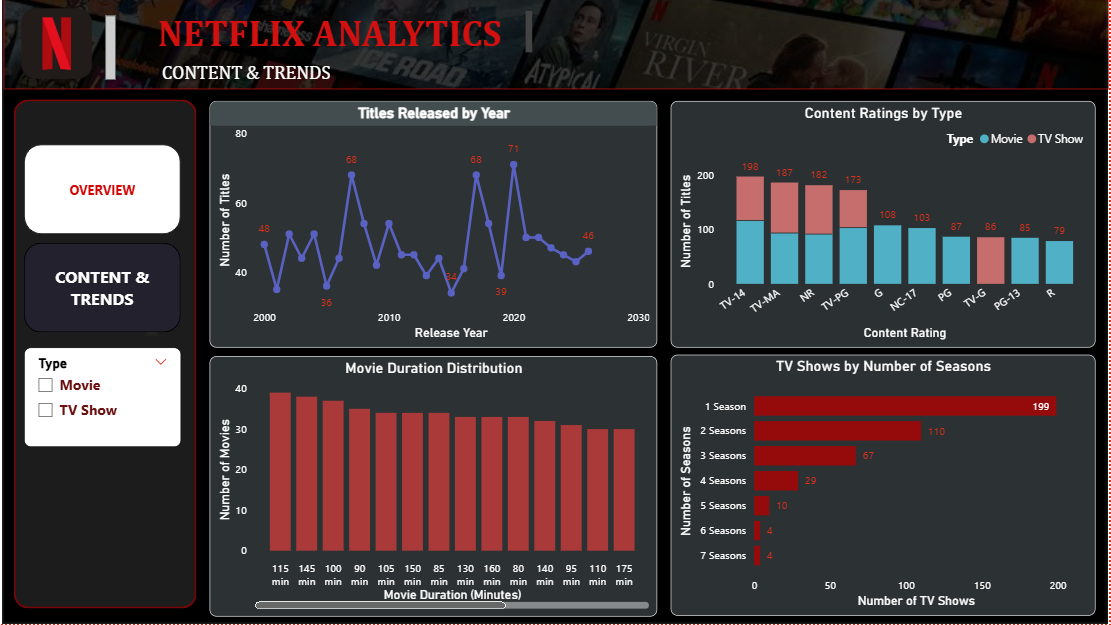

Layout of this report page (visuals, bound fields, positions):
{"tool":"powerbi","page":{"name":"CONTENT & TRENDS","canvas":[1280,720],"ordinal":1},"visuals":[{"type":"shape","box":[9,0,1271,719.4],"z":0},{"type":"image","box":[175,105,12,558.3],"z":1000},{"type":"image","box":[9.3,0,1270.3,105],"z":2000},{"type":"textbox","box":[152.8,9.3,469.2,58.7],"z":3000},{"type":"shape","box":[21.6,117.3,209.9,585],"z":4000},{"type":"pageNavigator","box":[34,168.2,180.6,216.1],"z":5000},{"type":"slicer","fields":{"Values":["NetflixTitles.type"]},"box":[34,401.3,180.6,114.2],"z":6000},{"type":"shape","box":[126.6,20.1,12.3,74.1],"z":7000},{"type":"image","box":[21.6,9.3,98.8,84.9],"z":8000},{"type":"textbox","box":[186.8,67.9,355,37],"z":9000},{"type":"lineChart","title":"Titles Released by Year","fields":{"Category":["NetflixTitles.release_year"],"Y":["CountNonNull(NetflixTitles.show_id)"]},"box":[246.2,117.9,514.8,283.5],"z":10000},{"type":"clusteredColumnChart","title":"Movie Duration Distribution","fields":{"Category":["NetflixTitles.duration"],"Y":["Count(NetflixTitles.show_id)"]},"box":[246.2,411.6,514.2,299.5],"z":11000},{"type":"clusteredBarChart","title":"TV Shows by Number of Seasons","fields":{"Category":["NetflixTitles.duration"],"Y":["CountNonNull(NetflixTitles.show_id)"],"Series":["NetflixTitles.type"]},"box":[777.4,410.4,488,299.9],"z":12000},{"type":"columnChart","title":"Content Ratings by Type","fields":{"Category":["NetflixTitles.rating"],"Y":["CountNonNull(NetflixTitles.show_id)"],"Series":["NetflixTitles.type"]},"box":[777.4,117.9,488,283.5],"z":13000}]}

Visuals, with their boxes in screenshot pixels (x1, y1, x2, y2), scaled from the page's 1280x720 canvas onto the 1111x625 screenshot:
shape: [x1=8, y1=0, x2=1110, y2=624]
image: [x1=152, y1=91, x2=162, y2=576]
image: [x1=8, y1=0, x2=1110, y2=91]
textbox: [x1=133, y1=8, x2=540, y2=59]
shape: [x1=19, y1=102, x2=201, y2=610]
pageNavigator: [x1=30, y1=146, x2=186, y2=334]
slicer - NetflixTitles.type: [x1=30, y1=348, x2=186, y2=447]
shape: [x1=110, y1=17, x2=121, y2=82]
image: [x1=19, y1=8, x2=105, y2=82]
textbox: [x1=162, y1=59, x2=470, y2=91]
"Titles Released by Year" lineChart: [x1=214, y1=102, x2=661, y2=348]
"Movie Duration Distribution" clusteredColumnChart: [x1=214, y1=357, x2=660, y2=617]
"TV Shows by Number of Seasons" clusteredBarChart: [x1=675, y1=356, x2=1098, y2=617]
"Content Ratings by Type" columnChart: [x1=675, y1=102, x2=1098, y2=348]
